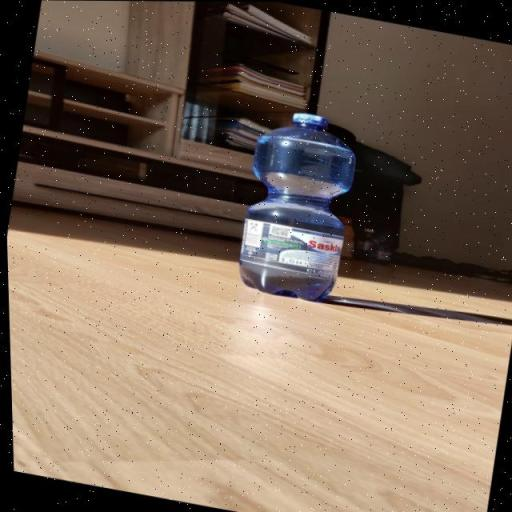plastic: (226, 102, 368, 306)
